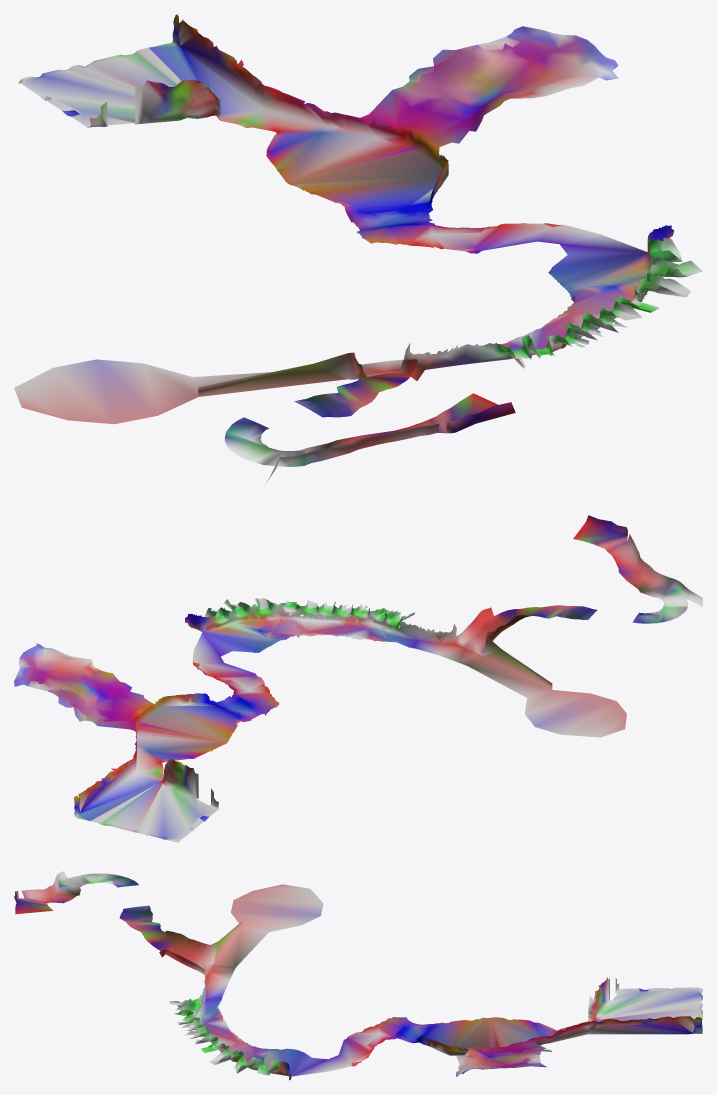
Rendered from floor-02-mesh-collider.fbx.
3 views of the same model, one above another, from view 1: azimuth 30°, elevation 25°; view 2: azimuth 150°, elevation 25°; view 3: azimuth 270°, elevation 25° (orthographic). The views are drawn at different scales.
Visible parts, largest first — view 1: ground-mesh-collider; view 2: ground-mesh-collider; view 3: ground-mesh-collider.
Part boxes in pixels (x1,y1,x2,y2): ground-mesh-collider: [14, 14, 702, 484]; ground-mesh-collider: [14, 515, 702, 842]; ground-mesh-collider: [14, 871, 702, 1080].
Bounding box in the file's own units: 51.25 × 7.17 × 66.85.
